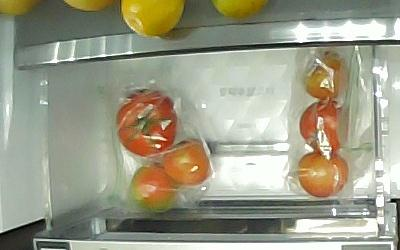tomato_vinyl: (114, 87, 178, 156), (299, 48, 351, 101), (298, 98, 349, 151), (128, 162, 179, 212), (295, 150, 349, 197), (160, 136, 210, 185)
